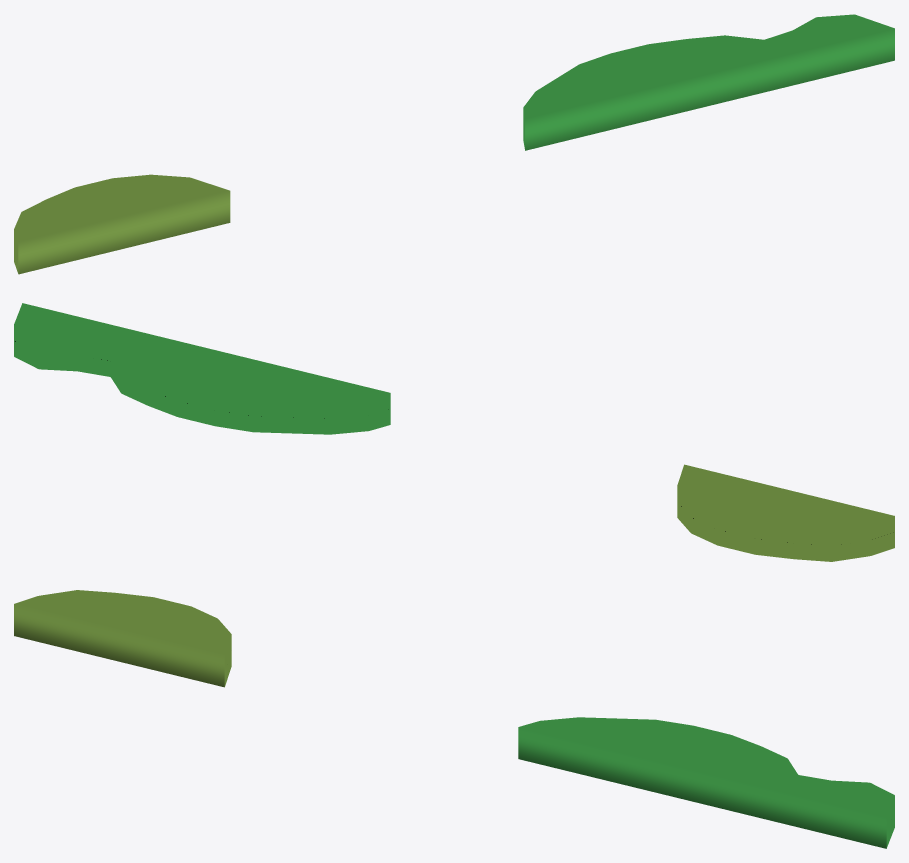
File: backhillleft.fbx
3 renders of one model, top to bottom at view 1: azimuth 30°, elevation 25°; view 2: azimuth 150°, elevation 25°; view 3: azimuth 330°, elevation 25°, orthographic.
Parts seen in each view (by area): view 1: backhillsleft1; view 2: backhillsleft1; view 3: backhillsleft1.
Part boxes in pixels (box(x1,y1,x2,y2)): backhillsleft1: box(14, 14, 894, 274); backhillsleft1: box(14, 303, 894, 561); backhillsleft1: box(14, 590, 894, 848).
Size of the model in its own units: 0.5695 by 0.02 by 0.0511.
